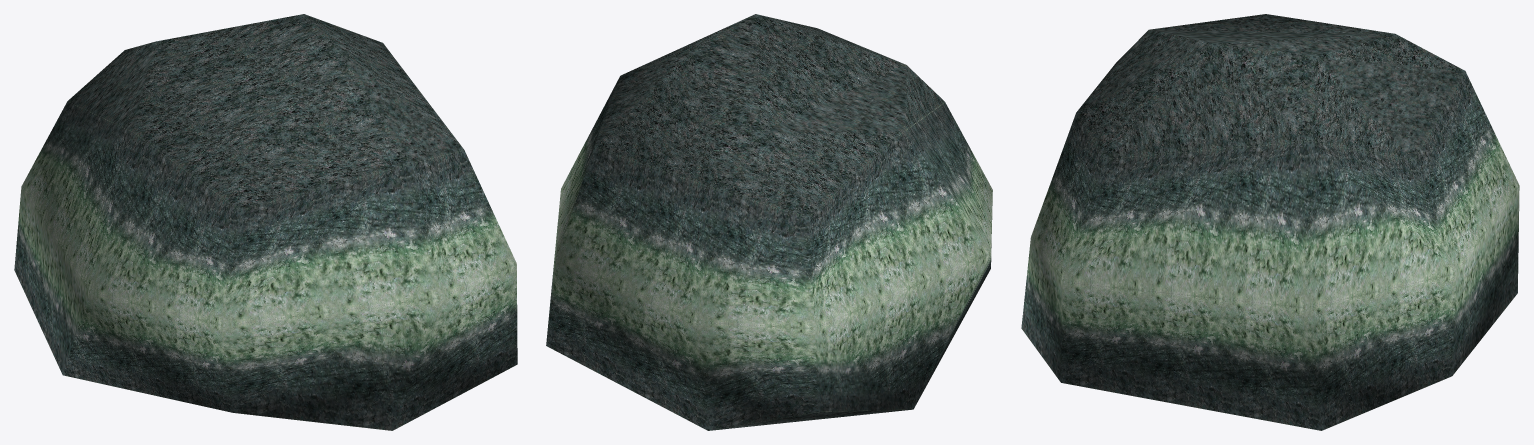
Rendered from rock_beach_dark_md_l1.fbx.
3 renders of one model, left to right at view 1: azimuth 30°, elevation 25°; view 2: azimuth 150°, elevation 25°; view 3: azimuth 270°, elevation 25°, orthographic. The views are drawn at different scales.
Visible parts, largest first — view 1: mesh_node; view 2: mesh_node; view 3: mesh_node.
Boxes of the visible parts, <box> form: mesh_node: <box>14,14,517,430</box>; mesh_node: <box>546,14,992,430</box>; mesh_node: <box>1021,14,1519,430</box>.
Size of the model in its own units: 7.45 by 5.68 by 7.92.
